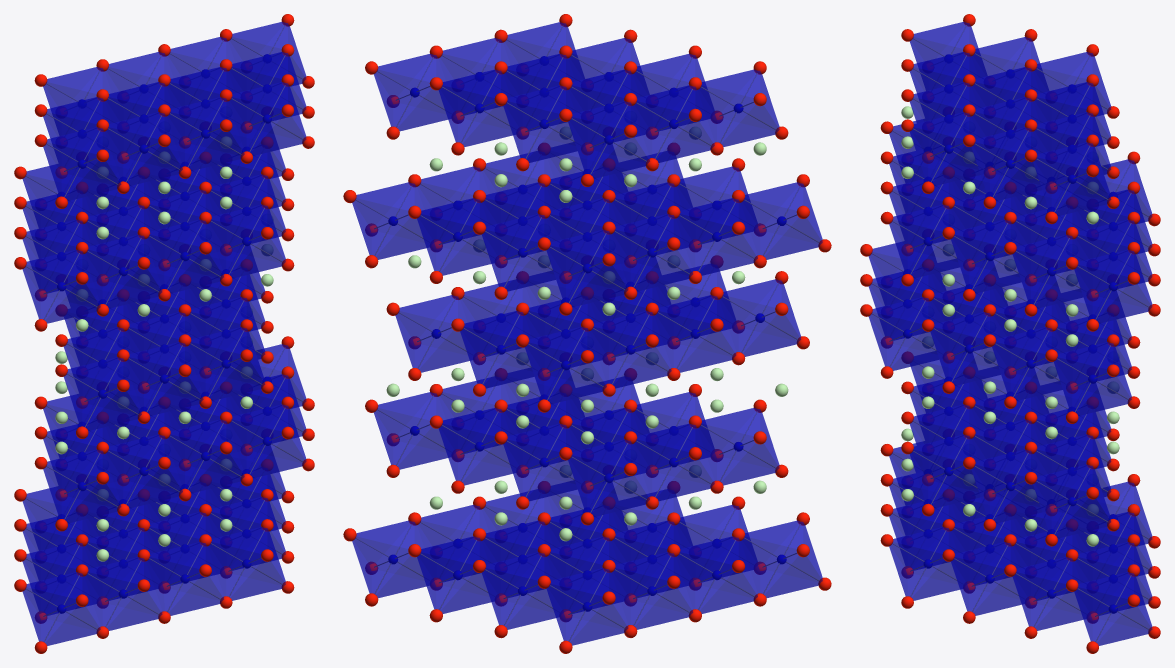
File: LiCoO2_2.glb
The picture shows the model from 3 angles, left to right: view 1: azimuth 30°, elevation 25°; view 2: azimuth 150°, elevation 25°; view 3: azimuth 270°, elevation 25°; orthographic projection. The views are drawn at different scales.
Parts seen in each view (by area): view 1: Shape_IndexedFaceSet, atom2_IndexedFaceSet, Shape_Cylinder, atom0_IndexedFaceSet, atom1_IndexedFaceSet; view 2: Shape_IndexedFaceSet, atom2_IndexedFaceSet, Shape_Cylinder, atom0_IndexedFaceSet, atom1_IndexedFaceSet; view 3: Shape_IndexedFaceSet, atom2_IndexedFaceSet, Shape_Cylinder, atom0_IndexedFaceSet, atom1_IndexedFaceSet.
Part boxes in pixels (x1,y1,x2,y2): Shape_IndexedFaceSet: (22,22,306,645); atom2_IndexedFaceSet: (14,14,314,653); Shape_Cylinder: (26,25,303,641); atom0_IndexedFaceSet: (55,136,273,561); atom1_IndexedFaceSet: (57,54,271,613); Shape_IndexedFaceSet: (352,22,822,645); atom2_IndexedFaceSet: (343,14,831,653); Shape_Cylinder: (356,26,819,641); atom0_IndexedFaceSet: (386,127,788,541); atom1_IndexedFaceSet: (388,56,786,611); Shape_IndexedFaceSet: (868,21,1152,645); atom2_IndexedFaceSet: (860,14,1160,653); Shape_Cylinder: (872,25,1149,641); atom0_IndexedFaceSet: (901,106,1119,546); atom1_IndexedFaceSet: (903,54,1117,613).
Bounding box in the file's own units: 15.99 × 21.29 × 11.88.
